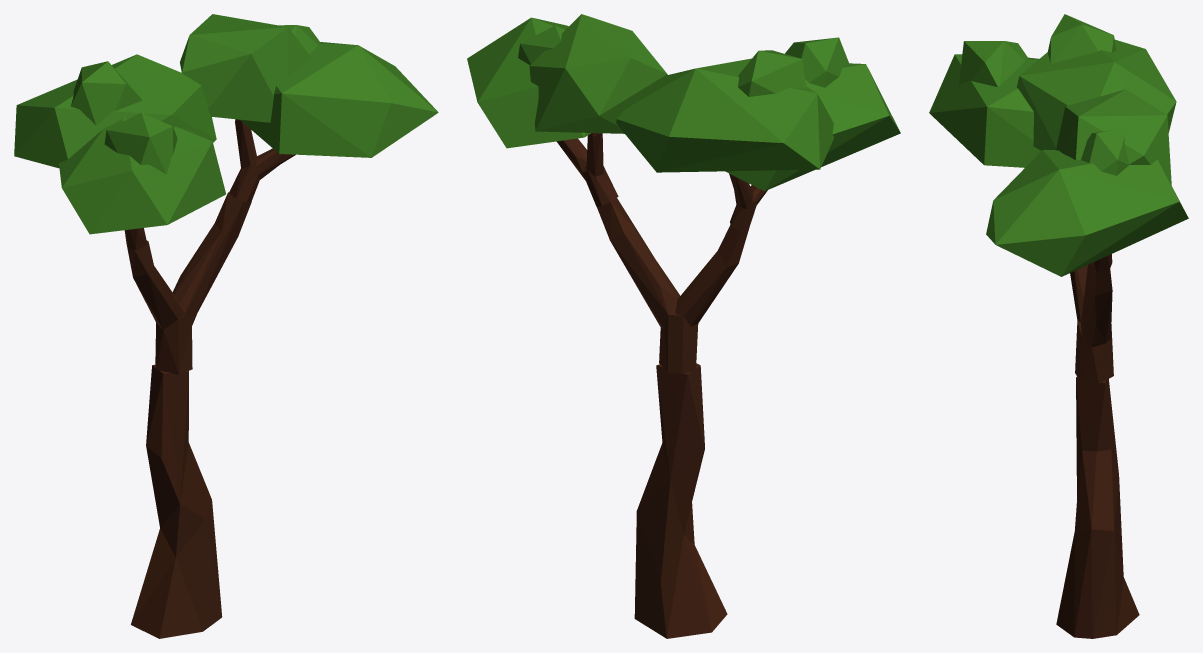
The model's file is GR_Tree_Broad_LOD2.fbx.
3 views of the same model, side by side, from view 1: azimuth 30°, elevation 25°; view 2: azimuth 150°, elevation 25°; view 3: azimuth 270°, elevation 25° (orthographic). The views are drawn at different scales.
Visible parts, largest first — view 1: GR_Tree_Broad_LOD2; view 2: GR_Tree_Broad_LOD2; view 3: GR_Tree_Broad_LOD2.
Part boxes in pixels (<box>): GR_Tree_Broad_LOD2: <box>14,14,438,638</box>; GR_Tree_Broad_LOD2: <box>467,14,900,638</box>; GR_Tree_Broad_LOD2: <box>929,14,1188,638</box>.
Bounding box in the file's own units: 3.12 × 4.58 × 1.92.
Materials: 2 (2 with a texture image).
